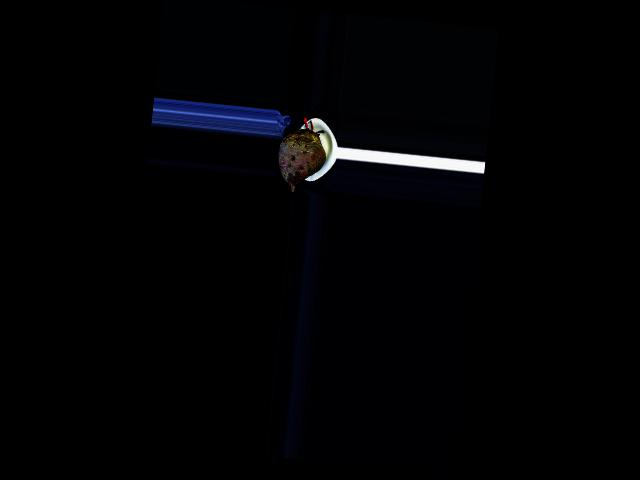beet: (275, 114, 329, 194)
